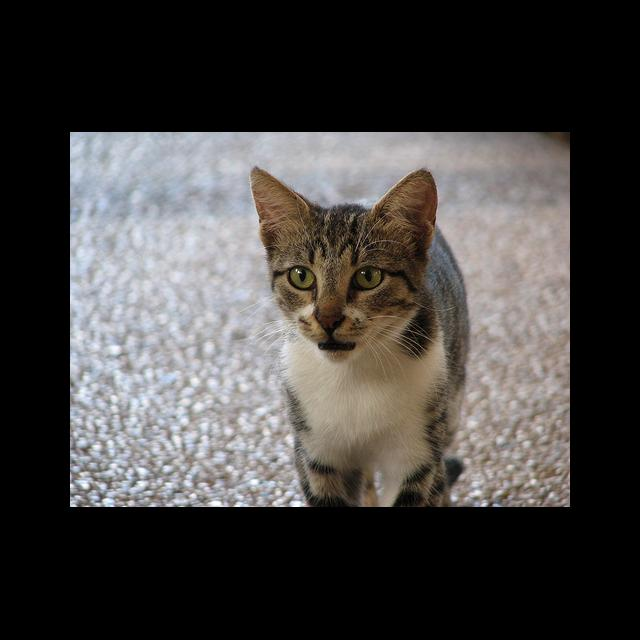animals: (252, 166, 425, 330)
